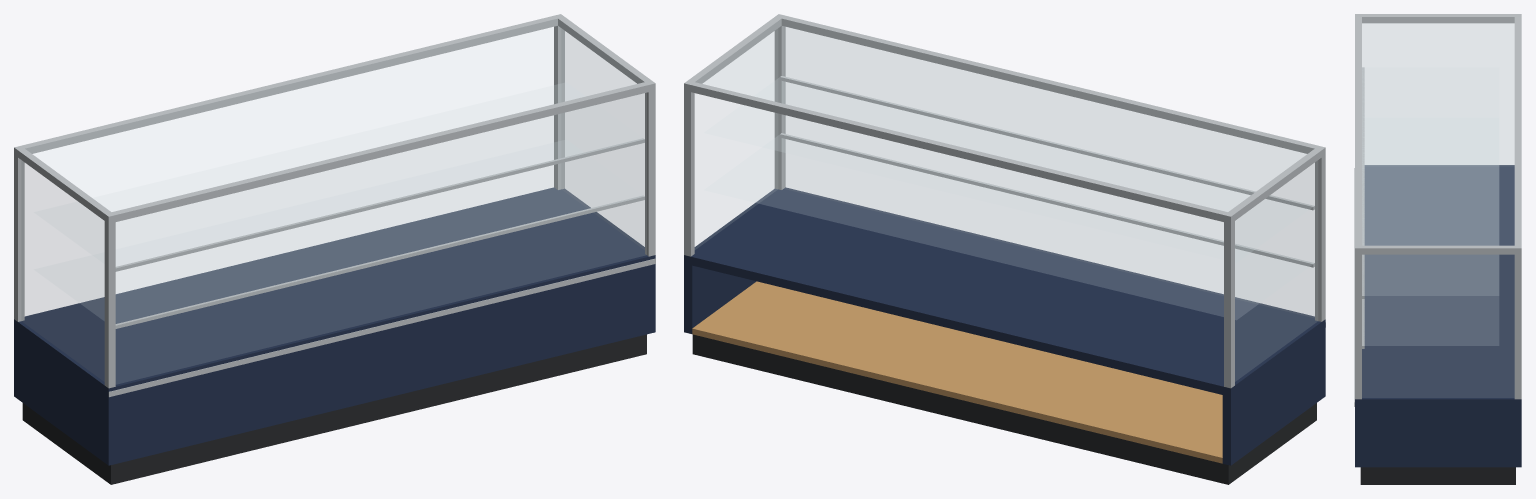
The model's file is SM_Shop_Counter_Display_Glass_01.glb.
The picture shows the model from 3 angles, left to right: view 1: azimuth 30°, elevation 25°; view 2: azimuth 150°, elevation 25°; view 3: azimuth 270°, elevation 25°; orthographic projection. The views are drawn at different scales.
Parts seen in each view (by area): view 1: SM_Shop_Counter_Display_Glass_01; view 2: SM_Shop_Counter_Display_Glass_01; view 3: SM_Shop_Counter_Display_Glass_01.
Boxes of the visible parts, <box> form: SM_Shop_Counter_Display_Glass_01: <box>14,14,655,484</box>; SM_Shop_Counter_Display_Glass_01: <box>684,14,1325,484</box>; SM_Shop_Counter_Display_Glass_01: <box>1354,14,1521,484</box>.
Size of the model in its own units: 2 by 0.95 by 0.602.
2 materials, 1 textured.
